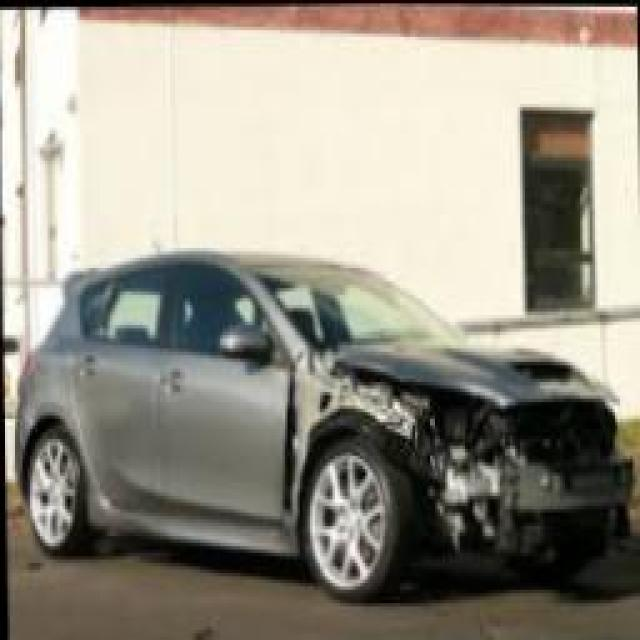Bonnet: (306, 333, 615, 426)
Bumper: (411, 432, 634, 582)
Fender: (281, 367, 423, 555)
